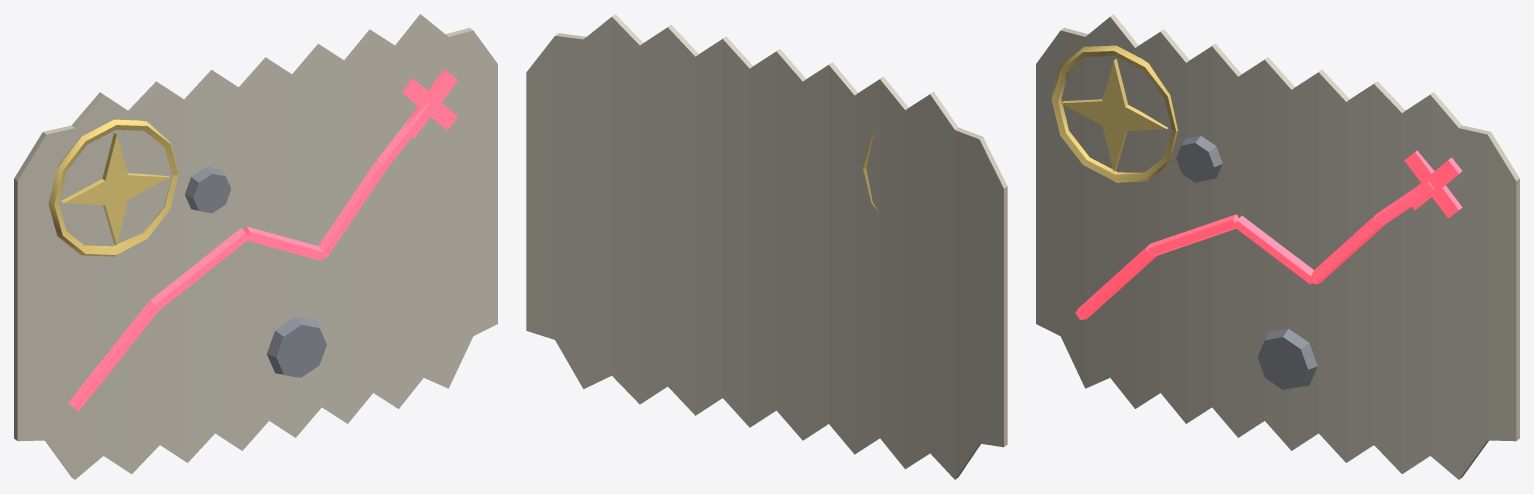
Rendered from pickups-and-collectibles-map-fragment-894c6524__19926.glb.
3 renders of one model, left to right at view 1: azimuth 30°, elevation 25°; view 2: azimuth 150°, elevation 25°; view 3: azimuth 330°, elevation 25°, orthographic.
Parts seen in each view (by area): view 1: body/bone, body/ruby, body/gold, body/iron; view 2: body/bone; view 3: body/bone, body/ruby, body/gold, body/iron.
Part boxes in pixels (x1=…): body/bone: x1=14, y1=14, x2=497, y2=479; body/ruby: x1=68, y1=69, x2=458, y2=411; body/gold: x1=48, y1=119, x2=178, y2=256; body/iron: x1=185, y1=166, x2=326, y2=377; body/bone: x1=526, y1=14, x2=1007, y2=479; body/bone: x1=1036, y1=14, x2=1519, y2=479; body/ruby: x1=1075, y1=150, x2=1462, y2=319; body/gold: x1=1051, y1=45, x2=1177, y2=182; body/iron: x1=1176, y1=135, x2=1317, y2=389.
Size of the model in its own units: 0.38 by 0.291 by 0.0304.
